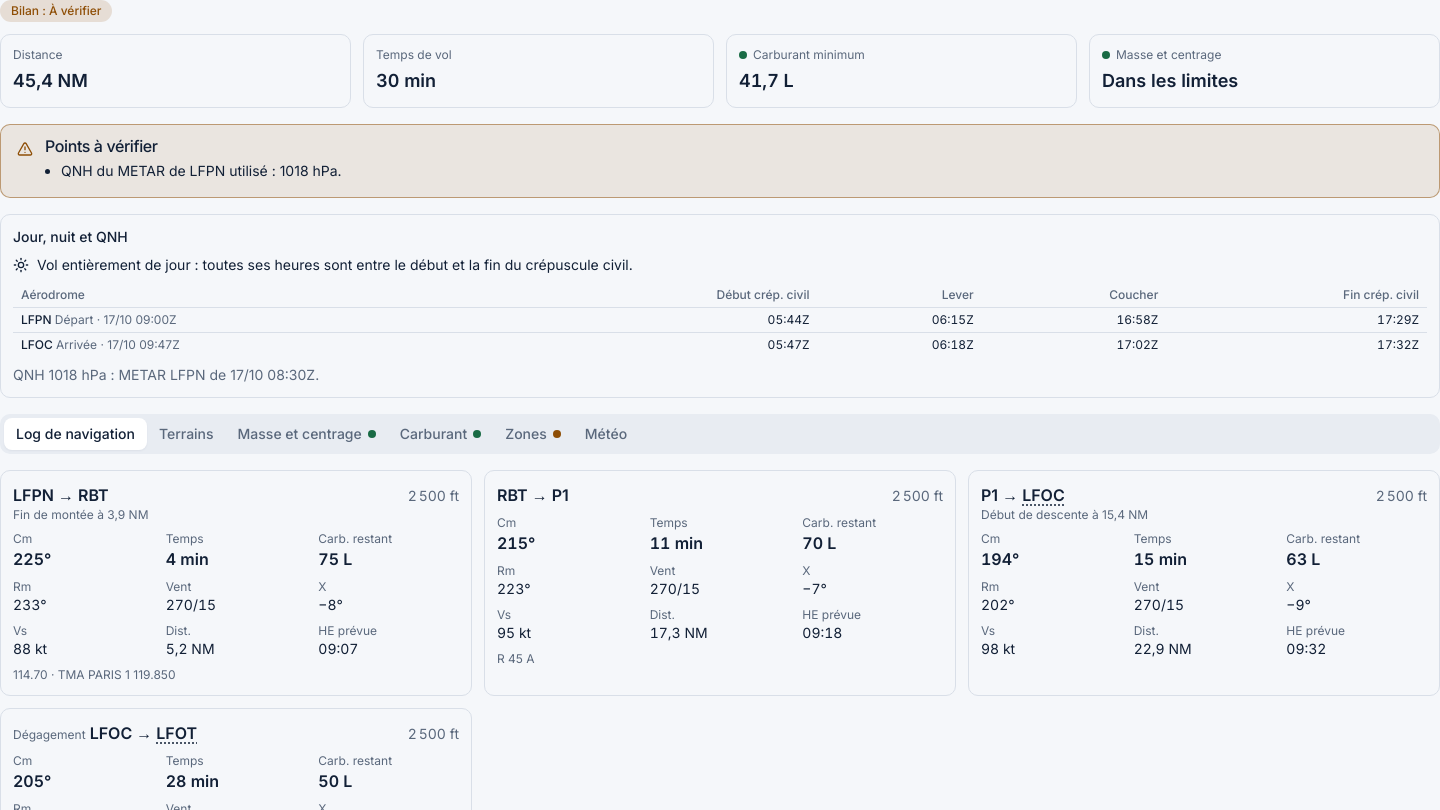
Scenario: ResultsPanel › sums up the plan and opens each result in its tab
Expected: the text "Bilan : À vérifier" is shown, [0, 0, 112, 22]
Expected: the tab named "Zones (À vérifier)" is shown, [493, 418, 573, 450]
Click the tab "Carburant" at (440, 434), box [388, 418, 493, 450]
(page scrolled)
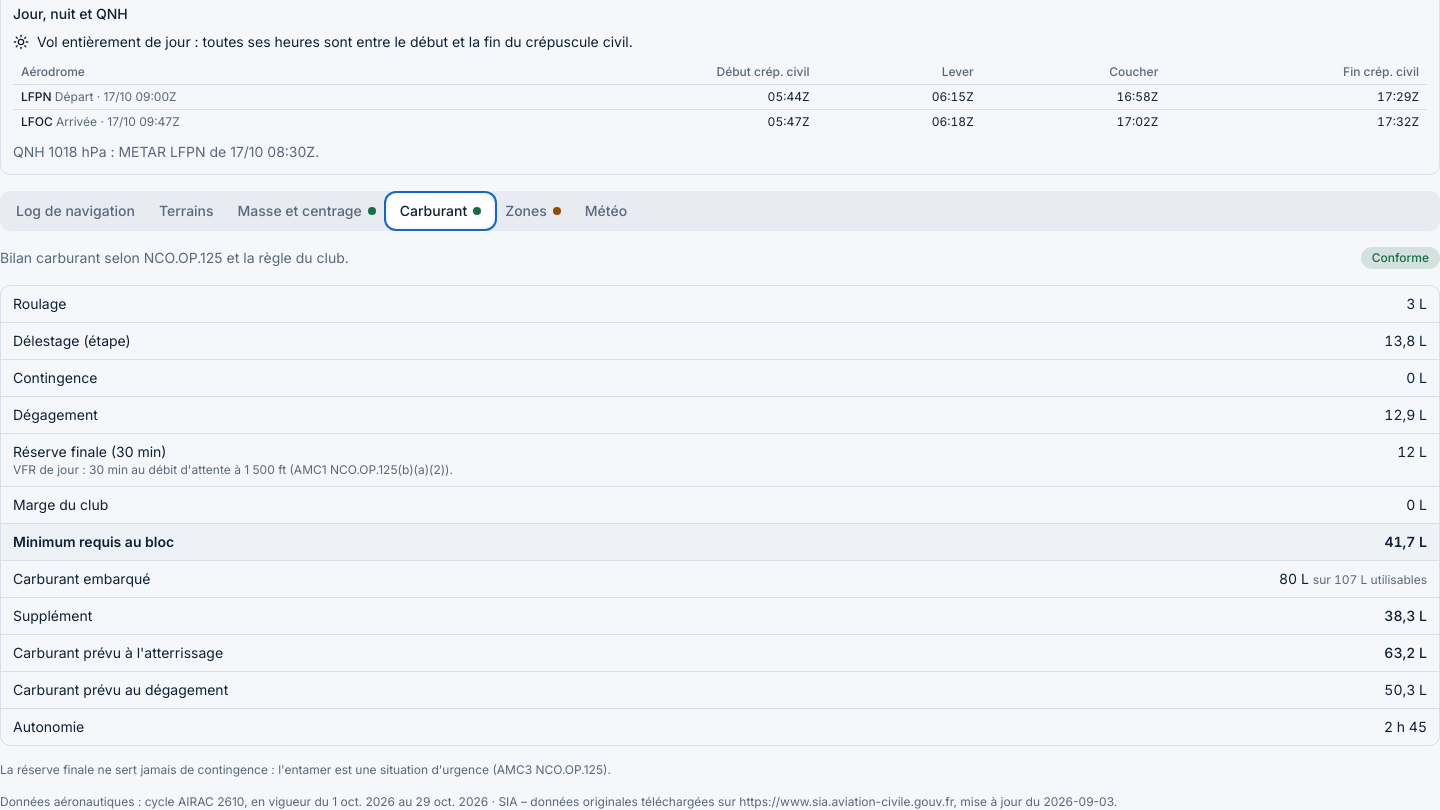
Expected: the text "Données aéronautiques : cycle AIRAC 2610" is shown, [0, 794, 1117, 809]
Expected: the text "Minimum requis au bloc" is shown, [13, 532, 174, 552]
